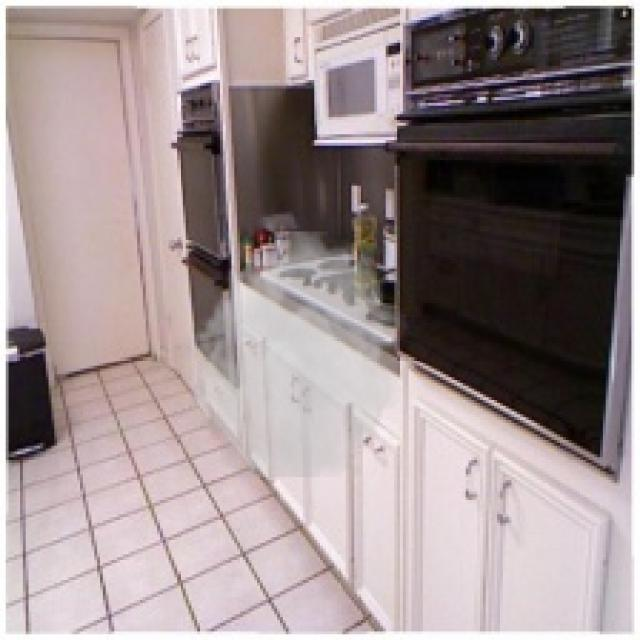smoke: (183, 232, 408, 477)
